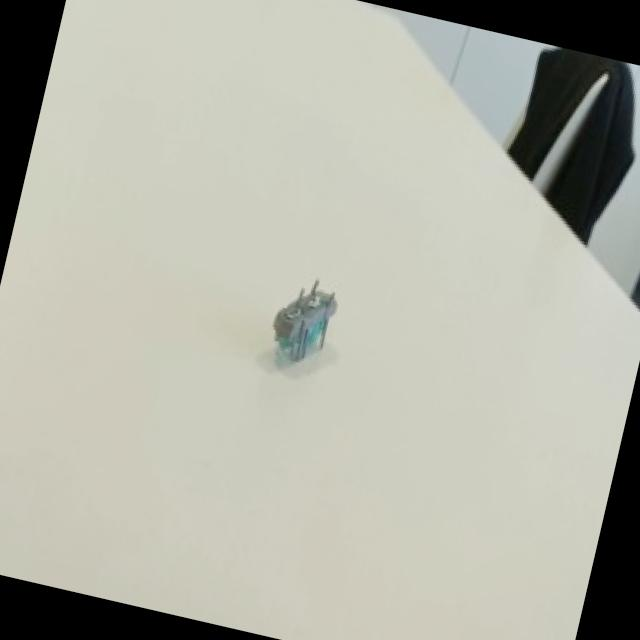5_NanoBug_GrisClaro: (236, 245, 369, 398)
